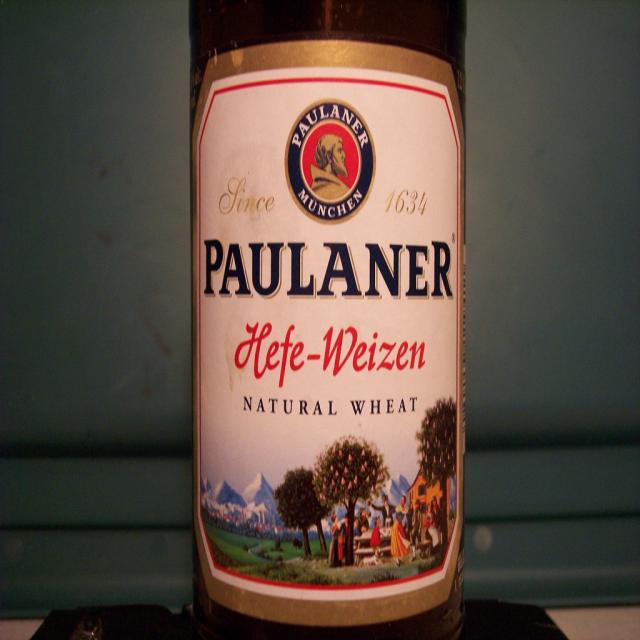paulaner: (285, 98, 377, 226)
